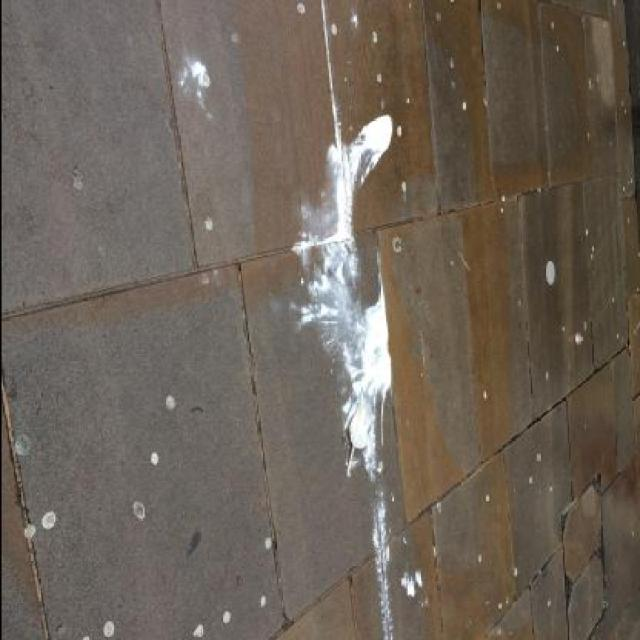plastic: (347, 398, 365, 468), (572, 332, 582, 345)
